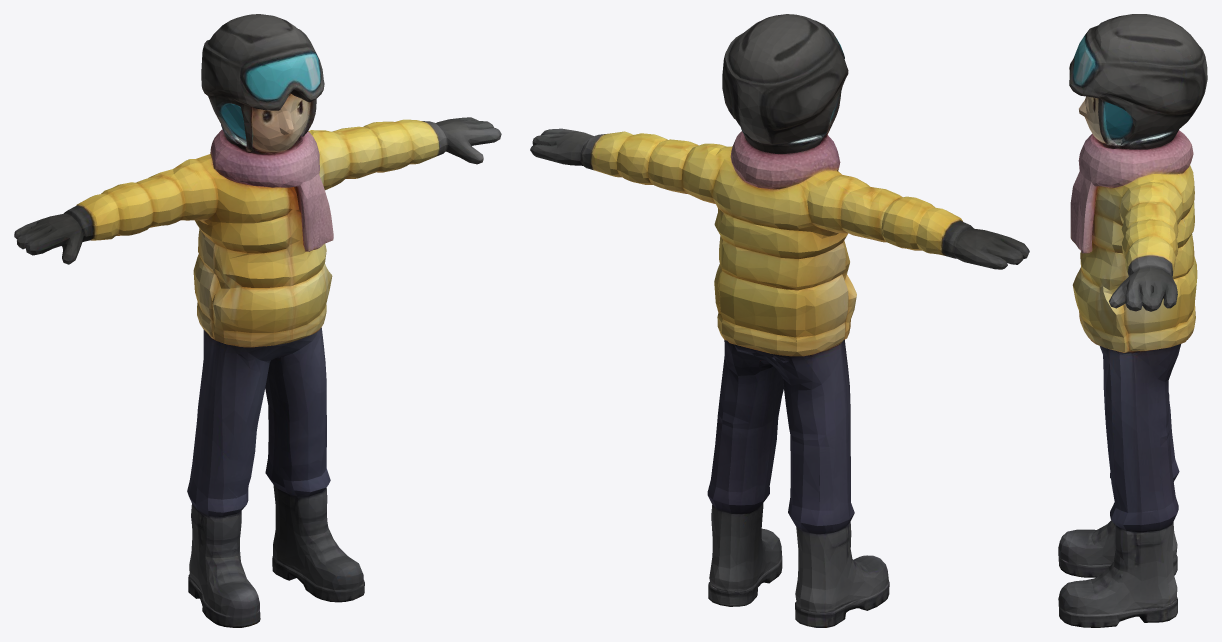
File: rider.glb
3 renders of one model, left to right at view 1: azimuth 30°, elevation 25°; view 2: azimuth 150°, elevation 25°; view 3: azimuth 270°, elevation 25°, orthographic. The views are drawn at different scales.
Visible parts, largest first — view 1: Snowboarder; view 2: Snowboarder; view 3: Snowboarder.
Part boxes in pixels (x1=…): Snowboarder: x1=14, y1=14, x2=501, y2=627; Snowboarder: x1=530, y1=14, x2=1029, y2=627; Snowboarder: x1=1058, y1=14, x2=1207, y2=627.
Size of the model in its own units: 1.59 by 1.8 by 0.426.
Materials: 1 (1 with a texture image).
